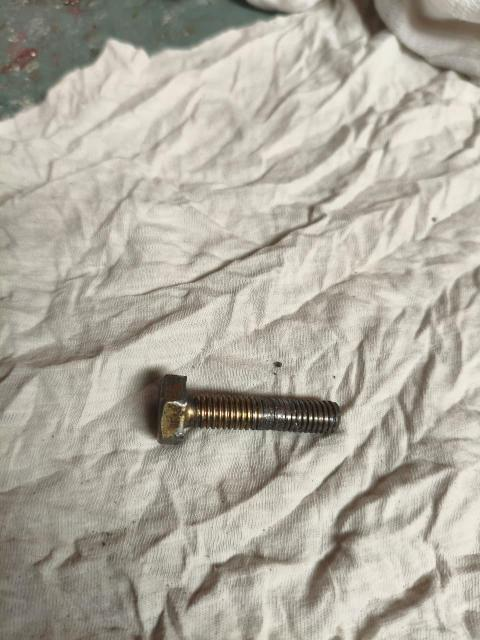Metal: (158, 358, 343, 455)
